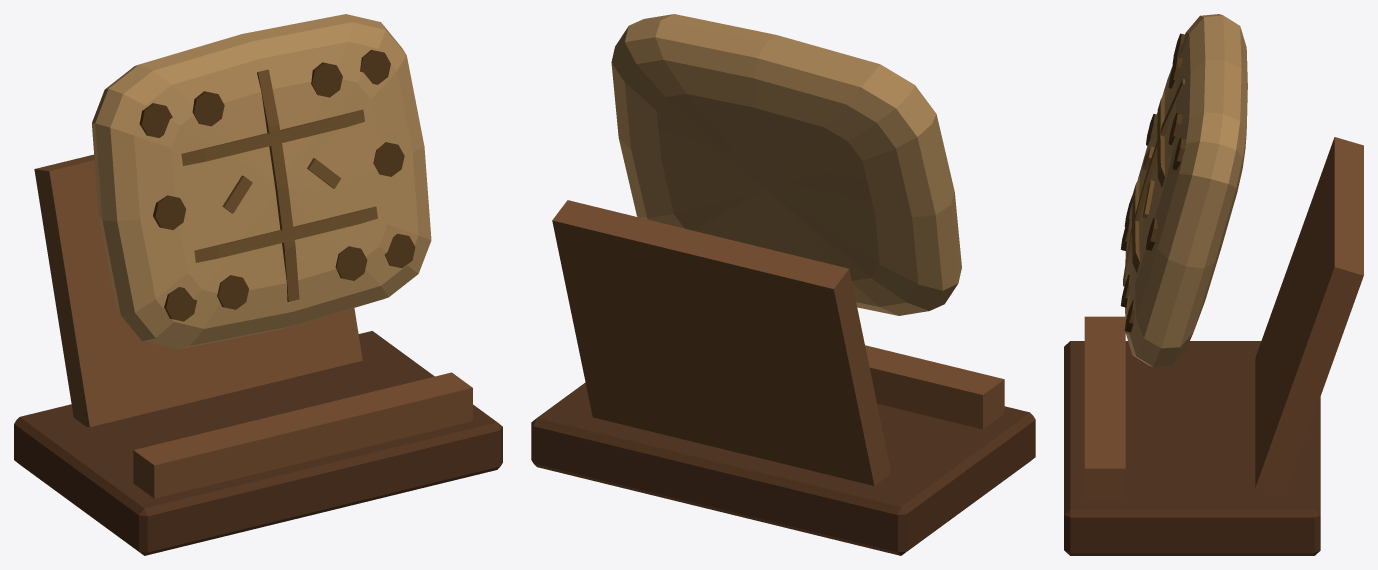
Rendered from tablette.glb.
3 views of the same model, side by side, from view 1: azimuth 30°, elevation 25°; view 2: azimuth 150°, elevation 25°; view 3: azimuth 270°, elevation 25° (orthographic). The views are drawn at different scales.
Parts seen in each view (by area): view 1: tablette; view 2: tablette; view 3: tablette.
Boxes of the visible parts, x1=… form: tablette: x1=14, y1=14, x2=502, y2=555; tablette: x1=531, y1=14, x2=1035, y2=555; tablette: x1=1064, y1=14, x2=1363, y2=555.
Size of the model in its own units: 0.8 by 0.8846 by 0.5839.
